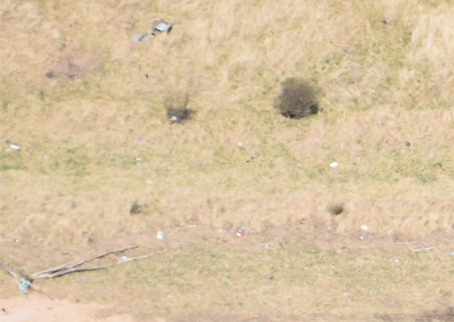scattered_barrel: (2, 110, 454, 300)
white_in_green: (126, 1, 196, 56)
